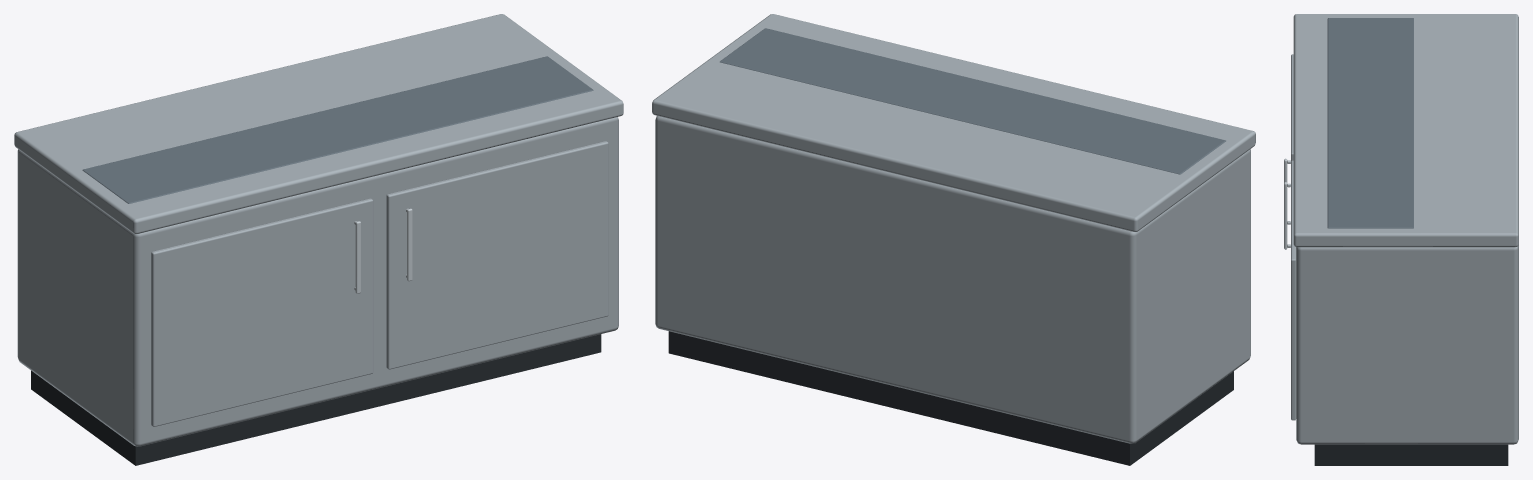
File: SM_PrepTable.glb
3 views of the same model, side by side, from view 1: azimuth 30°, elevation 25°; view 2: azimuth 150°, elevation 25°; view 3: azimuth 270°, elevation 25° (orthographic). The views are drawn at different scales.
Visible parts, largest first — view 1: SM_PrepTable; view 2: SM_PrepTable; view 3: SM_PrepTable.
Part boxes in pixels (<box>): SM_PrepTable: <box>14,14,623,465</box>; SM_PrepTable: <box>652,14,1255,465</box>; SM_PrepTable: <box>1284,14,1518,465</box>.
Bounding box in the file's own units: 2 × 1 × 0.896.
3 materials, 3 textured.
